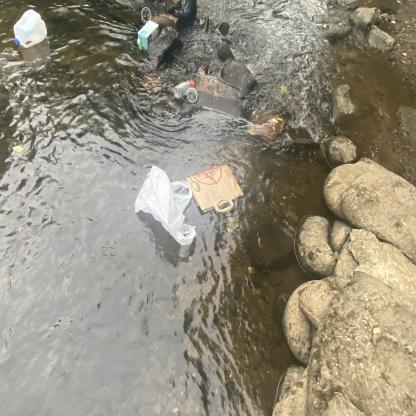trash: (132, 161, 200, 251), (184, 160, 248, 216), (12, 8, 50, 50), (135, 19, 163, 51), (172, 78, 198, 100), (184, 86, 198, 104), (140, 6, 154, 24)
